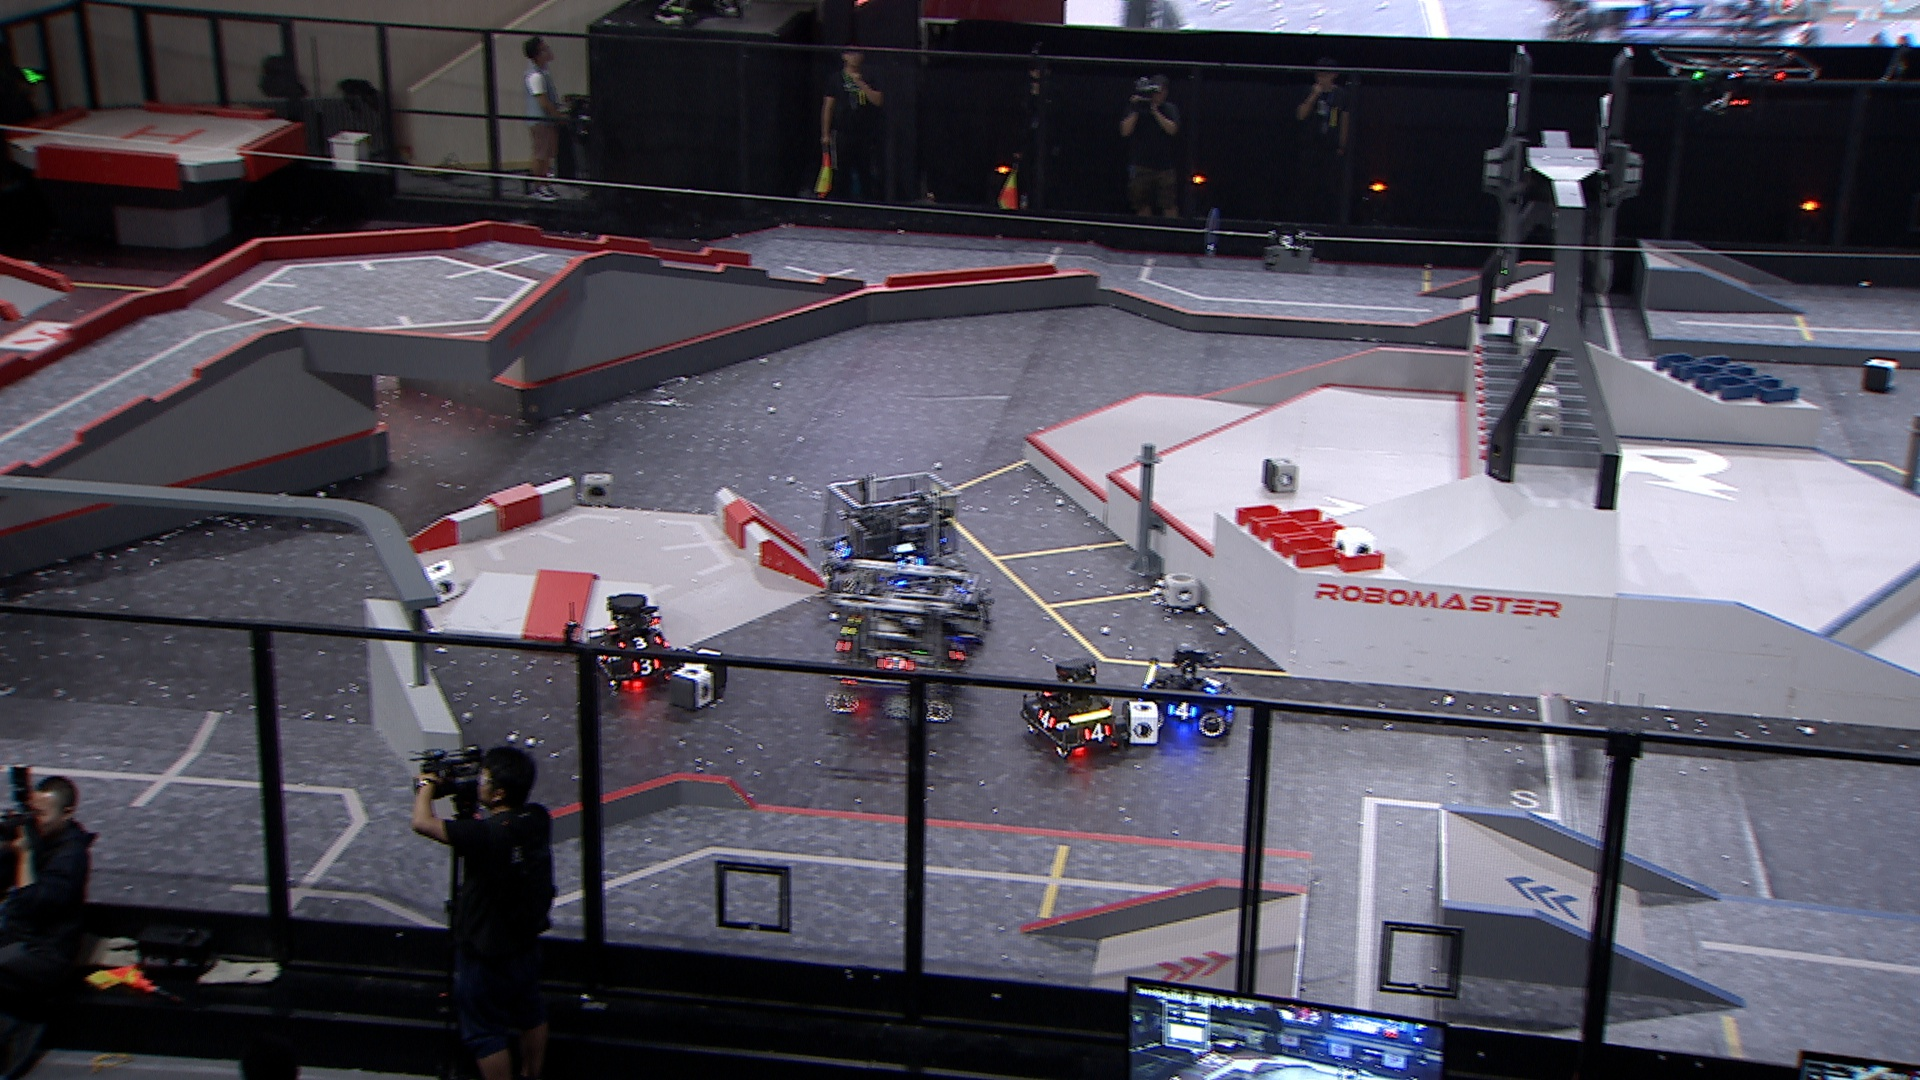armor: (615, 632, 662, 651), (878, 655, 916, 673), (632, 657, 662, 678), (1168, 702, 1199, 723), (1083, 723, 1112, 744), (1035, 705, 1058, 731), (833, 538, 852, 562), (1205, 676, 1224, 695), (899, 555, 924, 568)
car: (825, 562, 992, 727), (822, 469, 967, 603), (1017, 654, 1129, 760), (583, 589, 688, 694), (1131, 645, 1237, 737)
